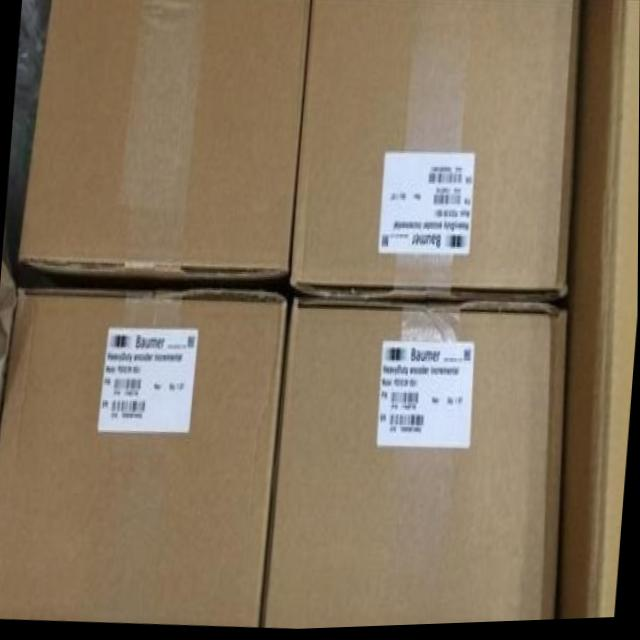box: (261, 298, 571, 630), (0, 291, 287, 627), (286, 0, 580, 305), (16, 0, 311, 297)
